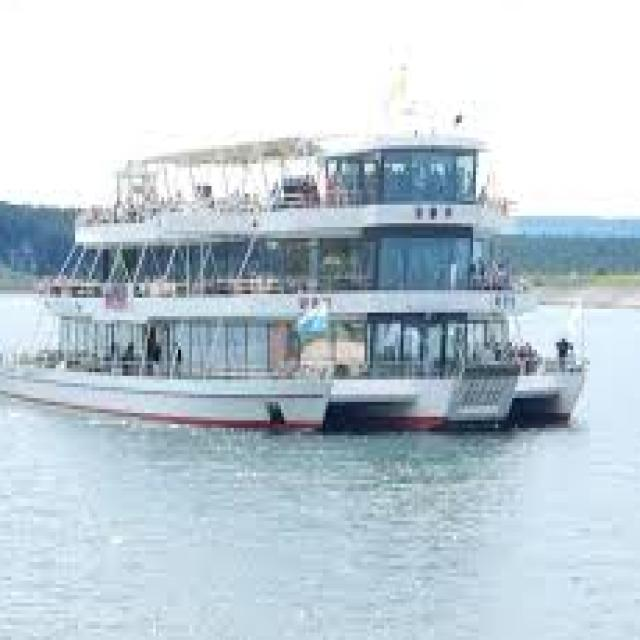passenger ship: (13, 107, 559, 417)
